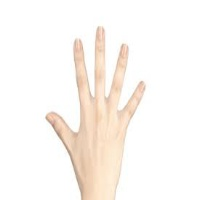ring: (106, 41, 137, 108)
